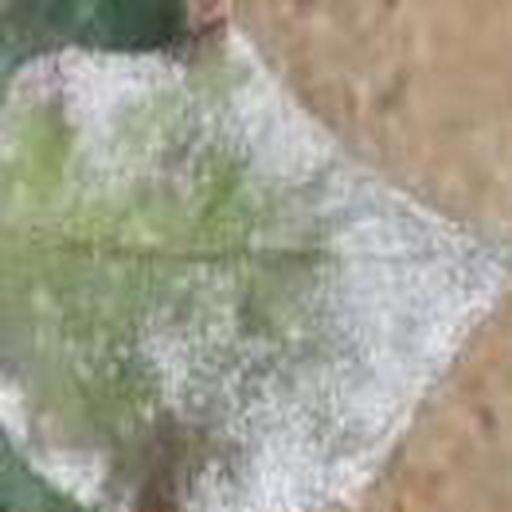powdery_mildew: (0, 32, 501, 512)
